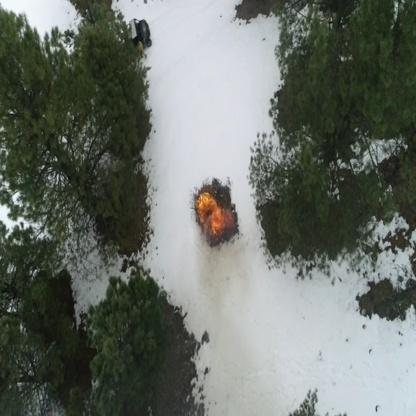Fire: (192, 190, 236, 248)
